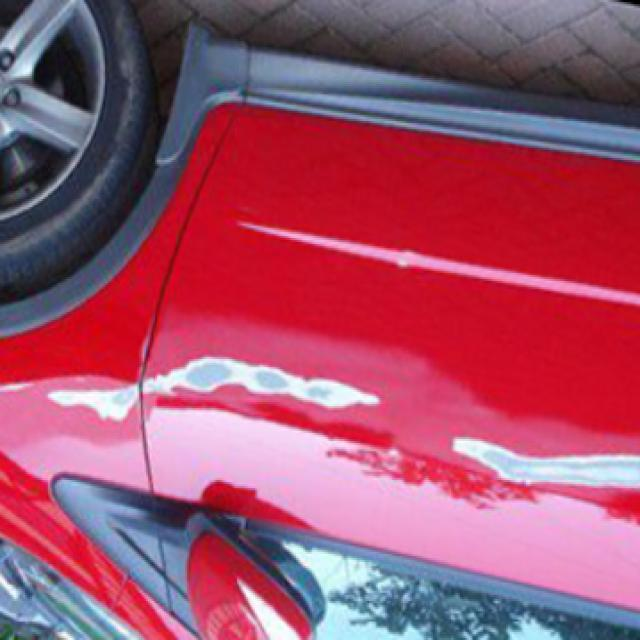scratch: (38, 344, 384, 434), (434, 420, 636, 508)
